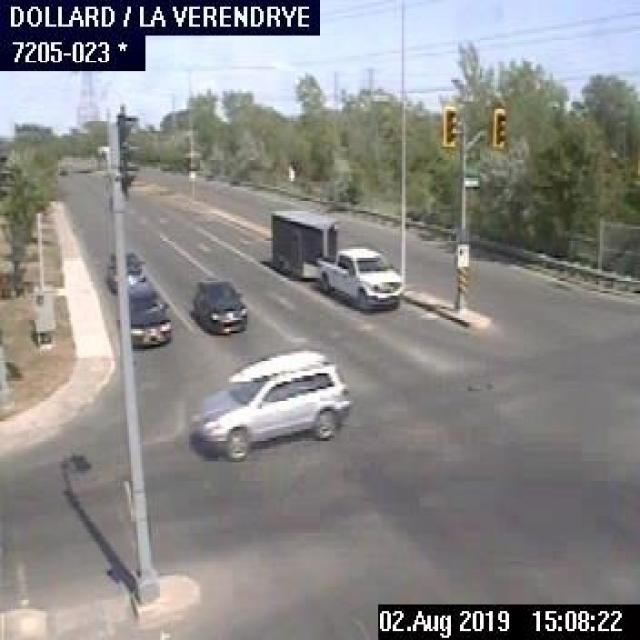vehicle: (190, 348, 348, 458), (266, 207, 406, 313), (189, 276, 249, 334), (125, 280, 173, 351), (105, 251, 143, 291)
